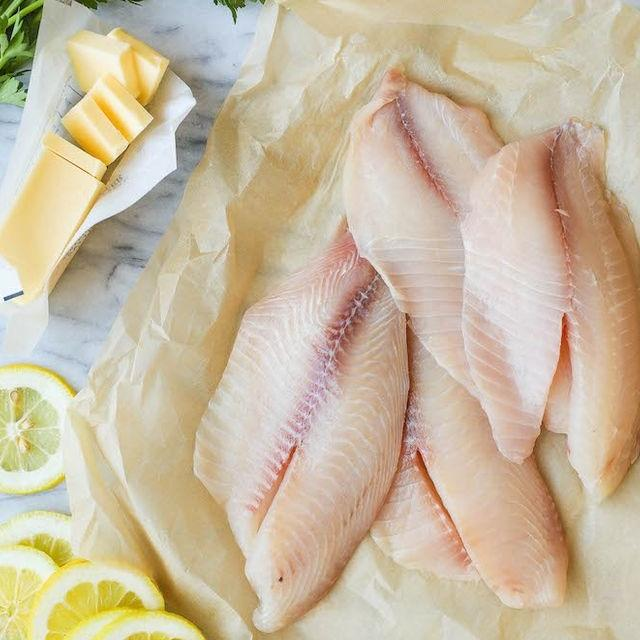fish: (150, 199, 417, 640), (427, 101, 640, 508)
